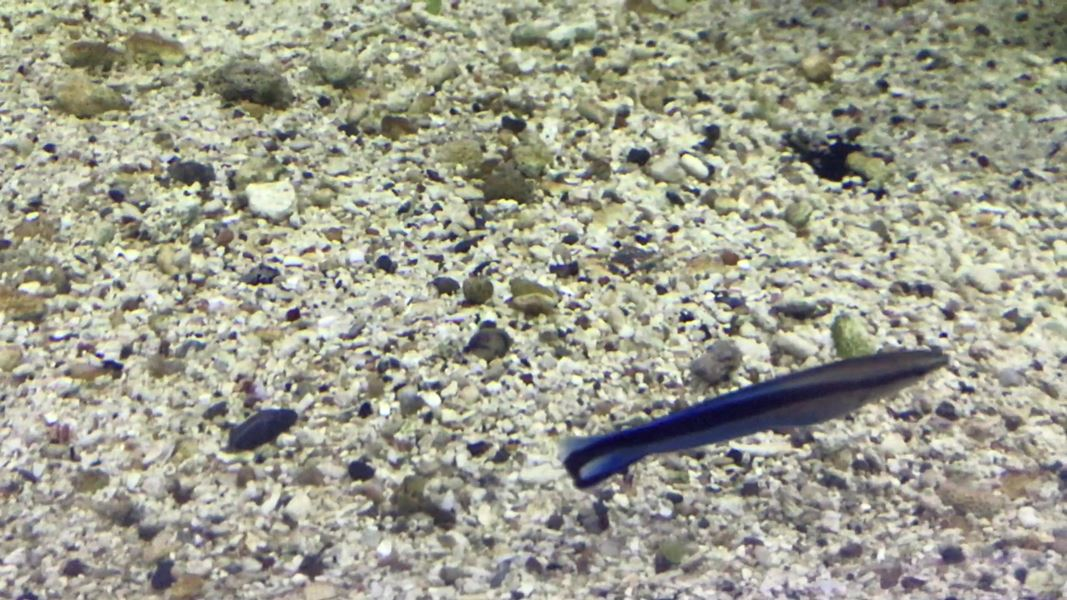Bluesteak cleaner wrasse: (551, 337, 956, 499)
